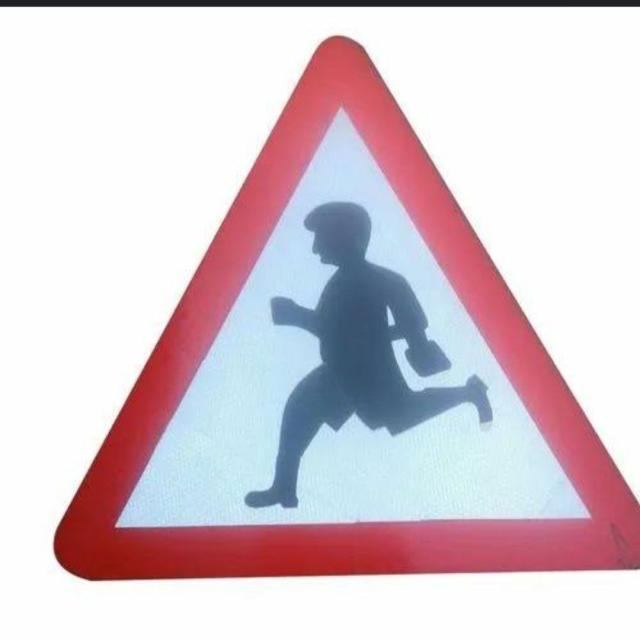school_ahead: (64, 33, 640, 588)
